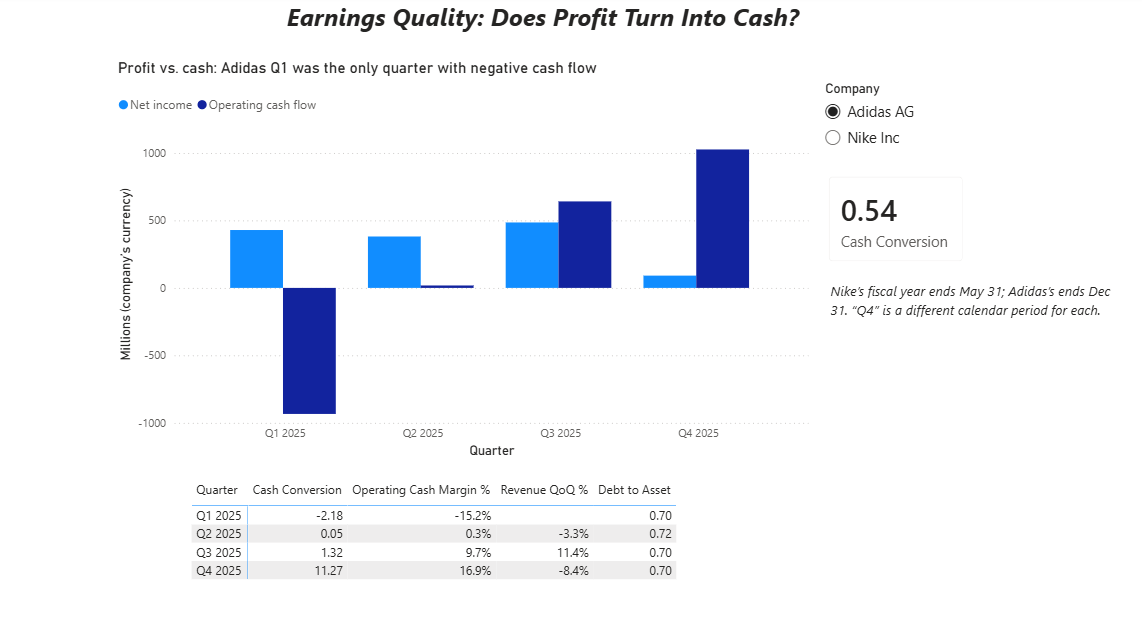

This screenshot's page, from the dashboard's own definition file:
{"tool":"powerbi","page":{"name":"Earnings Quality","canvas":[1280,720],"ordinal":1},"visuals":[{"type":"textbox","box":[314.2,0,651.8,52.1],"z":0},{"type":"slicer","fields":{"Values":["companies.Company"]},"box":[897.4,89.2,137.2,93.3],"z":1},{"type":"clusteredColumnChart","title":"Profit vs. cash: Adidas Q1 was the only quarter with negative cash flow","fields":{"Category":["quarters.Quarter"],"Y":["Sum(financials.net_income)","Sum(financials.operating_cash_flow)"]},"box":[129,70,768.4,443.2],"z":2},{"type":"cardVisual","fields":{"Data":["_Measures.Cash Conversion"]},"box":[897.4,182.5,181.1,127.6],"z":3},{"type":"pivotTable","fields":{"Rows":["quarters.Quarter"],"Values":["_Measures.Cash Conversion","_Measures.Operating Cash Margin %","_Measures.Revenue QoQ %","_Measures.Debt to Asset"]},"box":[209.9,526.9,551.6,182.5],"z":4},{"type":"textbox","box":[911.2,310.6,333.4,98.8],"z":5}]}

Visuals, with their boxes in screenshot pixels (x1, y1, x2, y2), scaled from the page's 1280x720 canvas onto the 1142x637 screenshot:
textbox: (left=280, top=0, right=862, bottom=46)
slicer - companies.Company: (left=801, top=79, right=923, bottom=161)
"Profit vs. cash: Adidas Q1 was the only quarter with negative cash flow" clusteredColumnChart: (left=115, top=62, right=801, bottom=454)
cardVisual - _Measures.Cash Conversion: (left=801, top=161, right=962, bottom=274)
pivotTable - quarters.Quarter x _Measures.Cash Conversion: (left=187, top=466, right=679, bottom=628)
textbox: (left=813, top=275, right=1110, bottom=362)
